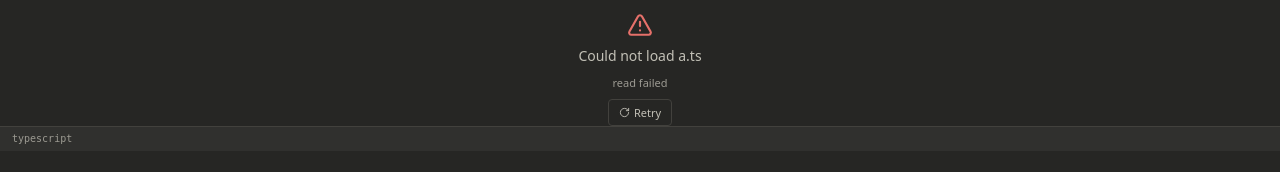
Scenario: CodePanel › shows an inline error with a retry button when loading fails
Expected: the element with test id "code-load-error" is shown, top-left (578, 12), bottom-right (702, 126)
Expected: the element with test id "code-load-error" shows "read failed", top-left (612, 75), bottom-right (667, 90)
Click the button "Retry": point(640, 112) top-left (608, 99), bottom-right (672, 126)
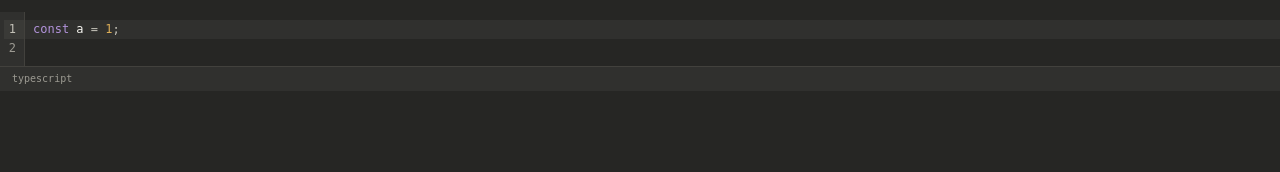
Now the element with class "cm-editor" is shown, box top-left (0, 12), bottom-right (1279, 66)
